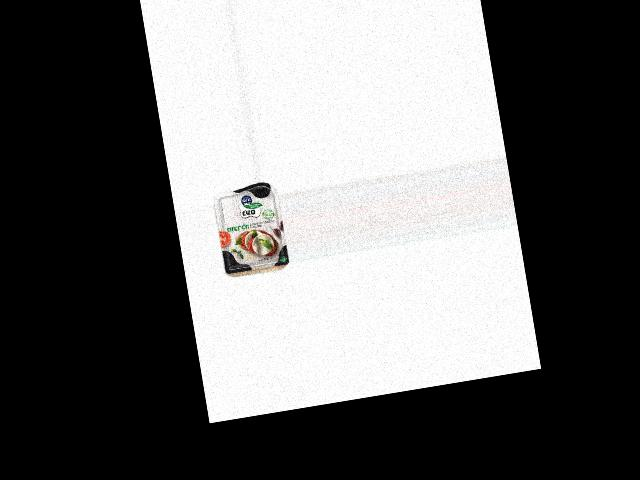cheese: (211, 181, 289, 275)
